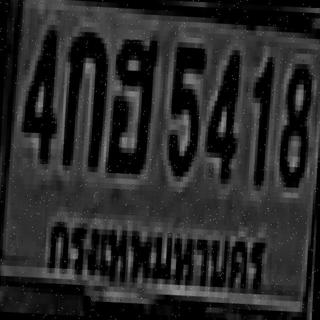A01: (60, 26, 108, 167)
A44: (106, 34, 158, 170)
N01: (248, 51, 273, 181)
N04: (20, 24, 57, 159), (203, 44, 238, 179)
N05: (166, 42, 205, 172)
N08: (278, 58, 312, 183)
P04: (39, 209, 275, 306)
